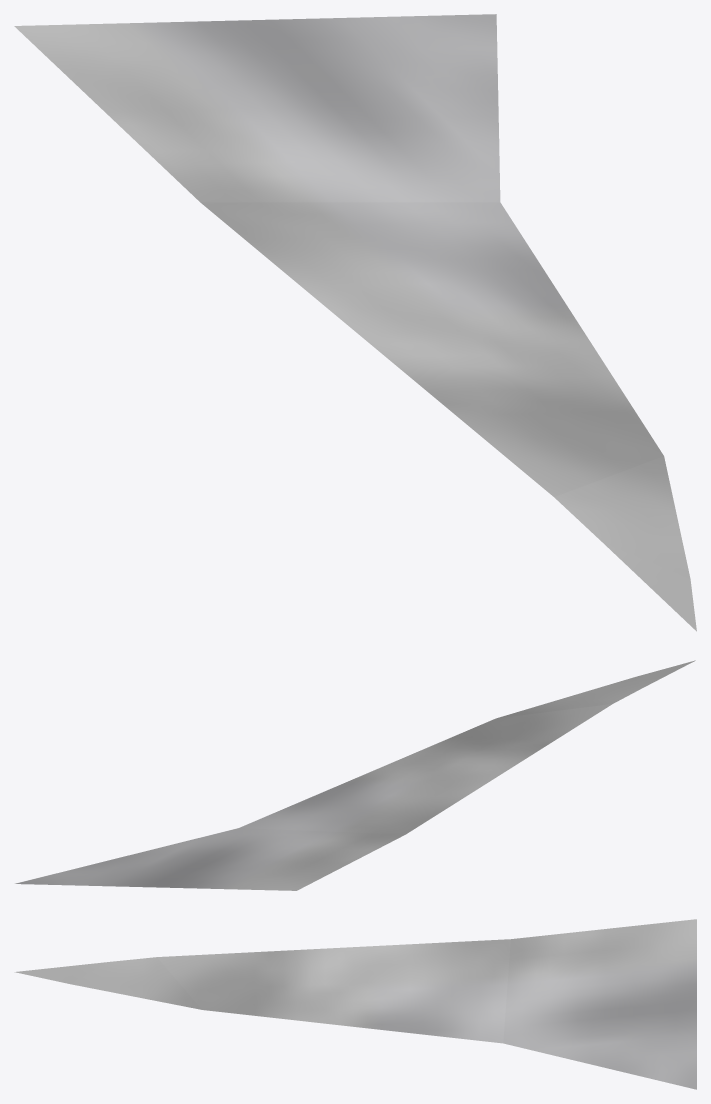
The picture shows the model from 3 angles, top to bottom: view 1: azimuth 30°, elevation 25°; view 2: azimuth 150°, elevation 25°; view 3: azimuth 270°, elevation 25°; orthographic projection. The views are drawn at different scales.
Bounding box in the file's own units: 0.0634 × 0.0133 × 0.1555.
1 material, 1 textured.
